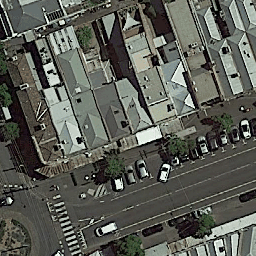car: (94, 220, 119, 238), (141, 222, 163, 238), (135, 159, 150, 180), (167, 213, 189, 227), (157, 162, 171, 183), (239, 117, 252, 139), (196, 134, 210, 154), (206, 131, 219, 152), (194, 204, 213, 218), (112, 172, 125, 192), (124, 165, 137, 185), (239, 189, 256, 203), (230, 123, 240, 143), (218, 128, 229, 146), (189, 143, 199, 160)
